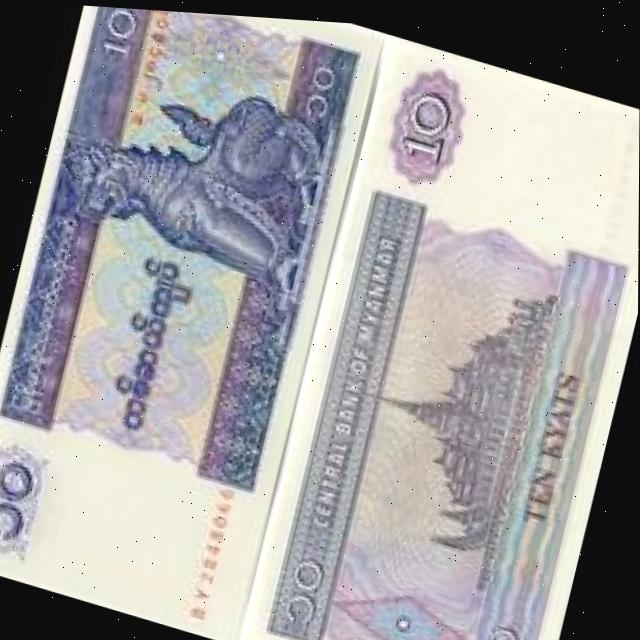banknote: (0, 0, 380, 640), (243, 28, 640, 640)
